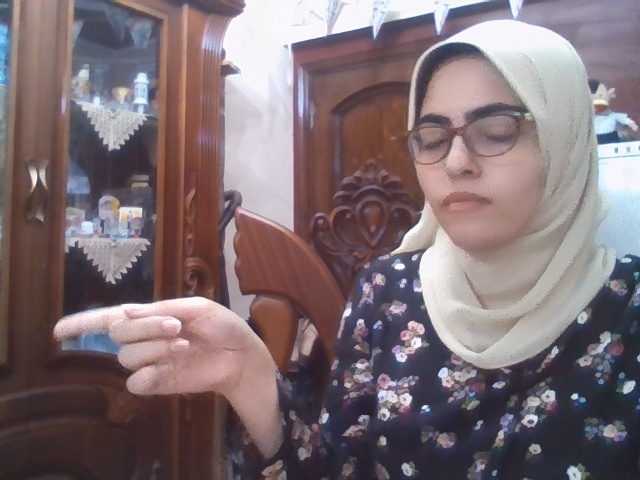G: (55, 296, 258, 396)
